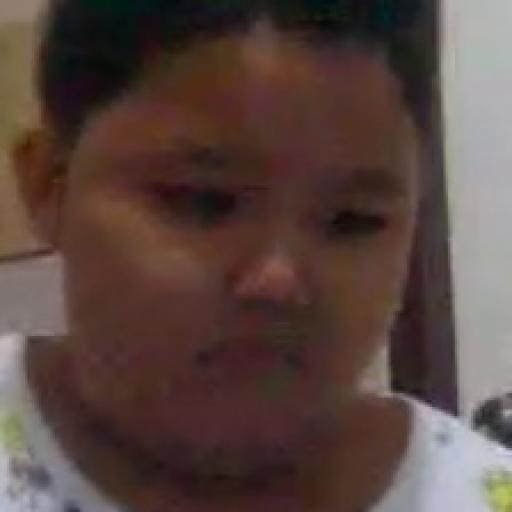Autism: (40, 4, 459, 512)
